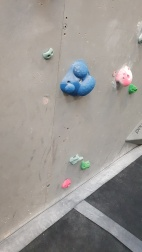Jug: (112, 63, 134, 86)
Sloper: (59, 60, 97, 97)
